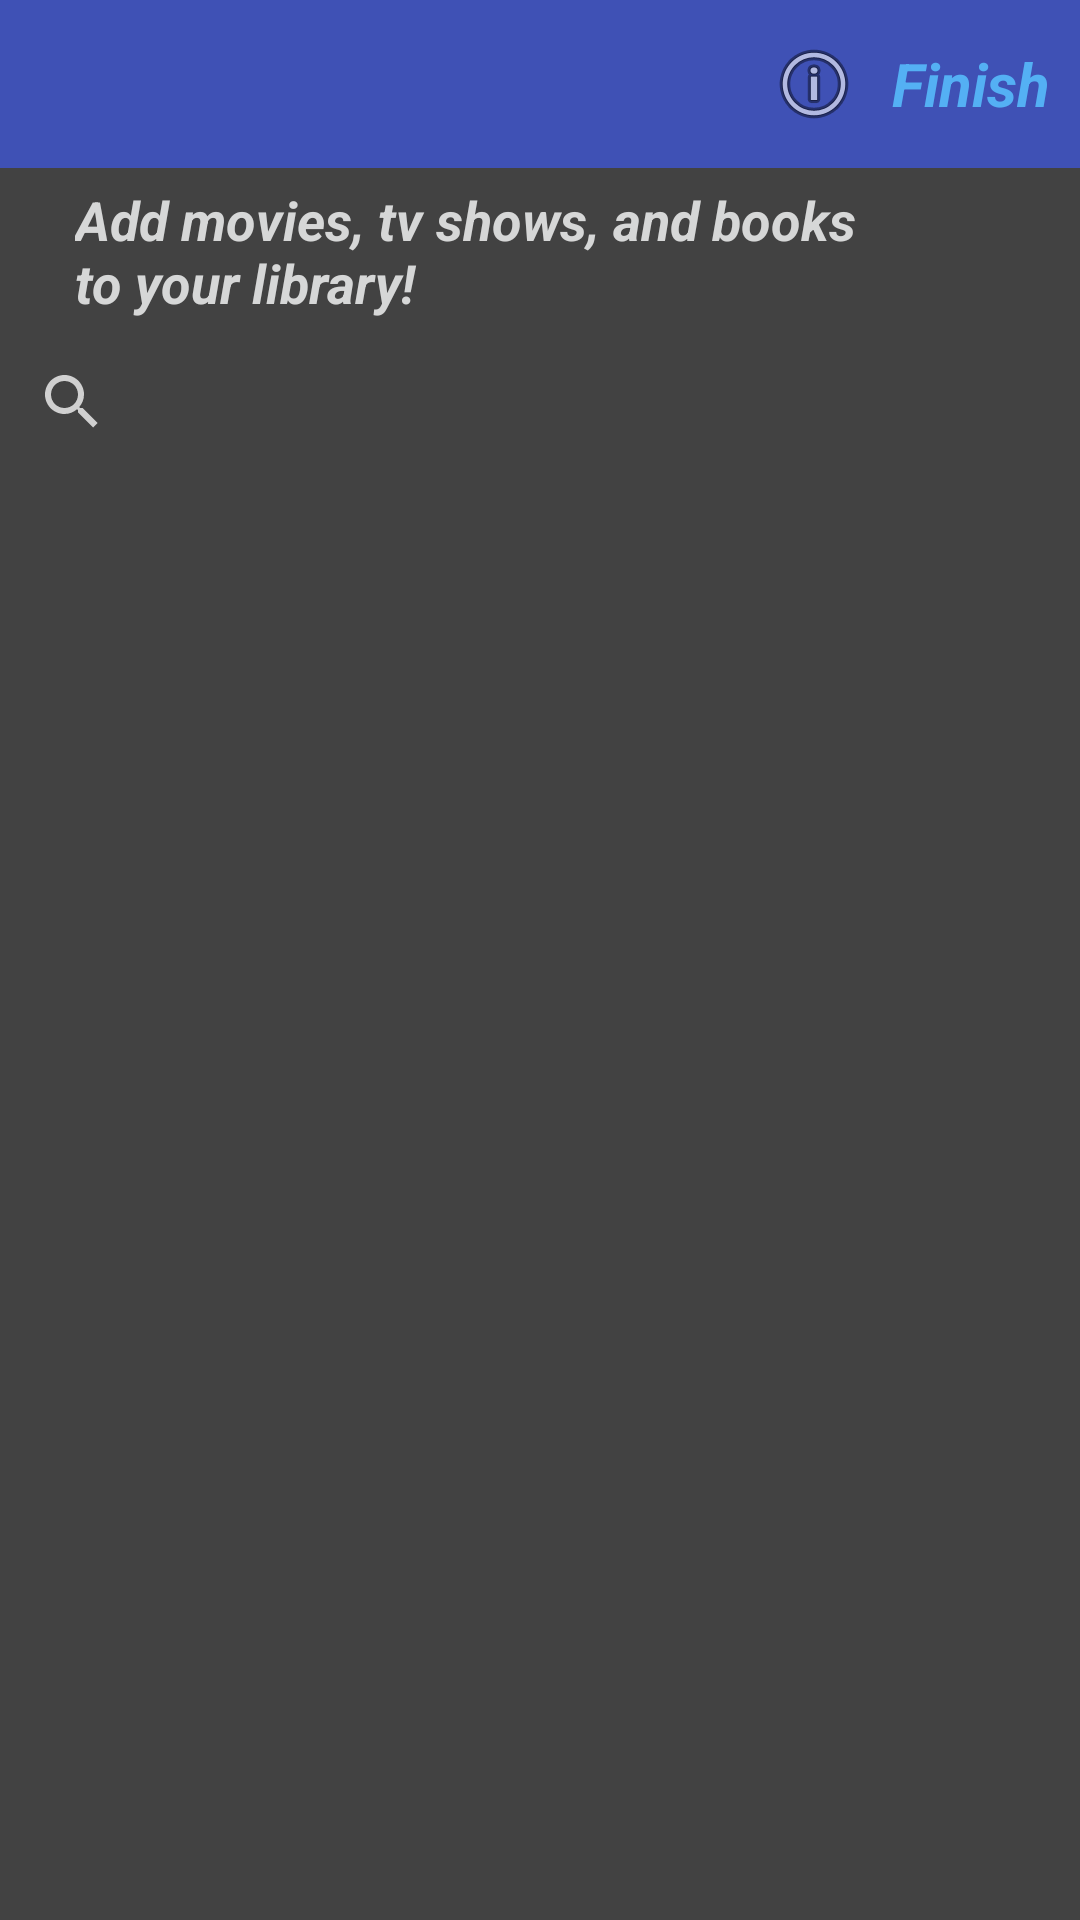

Screen size 1080w x 1920h. Icon name, then its center in pixels as (x,y):
info details: (814,84)
